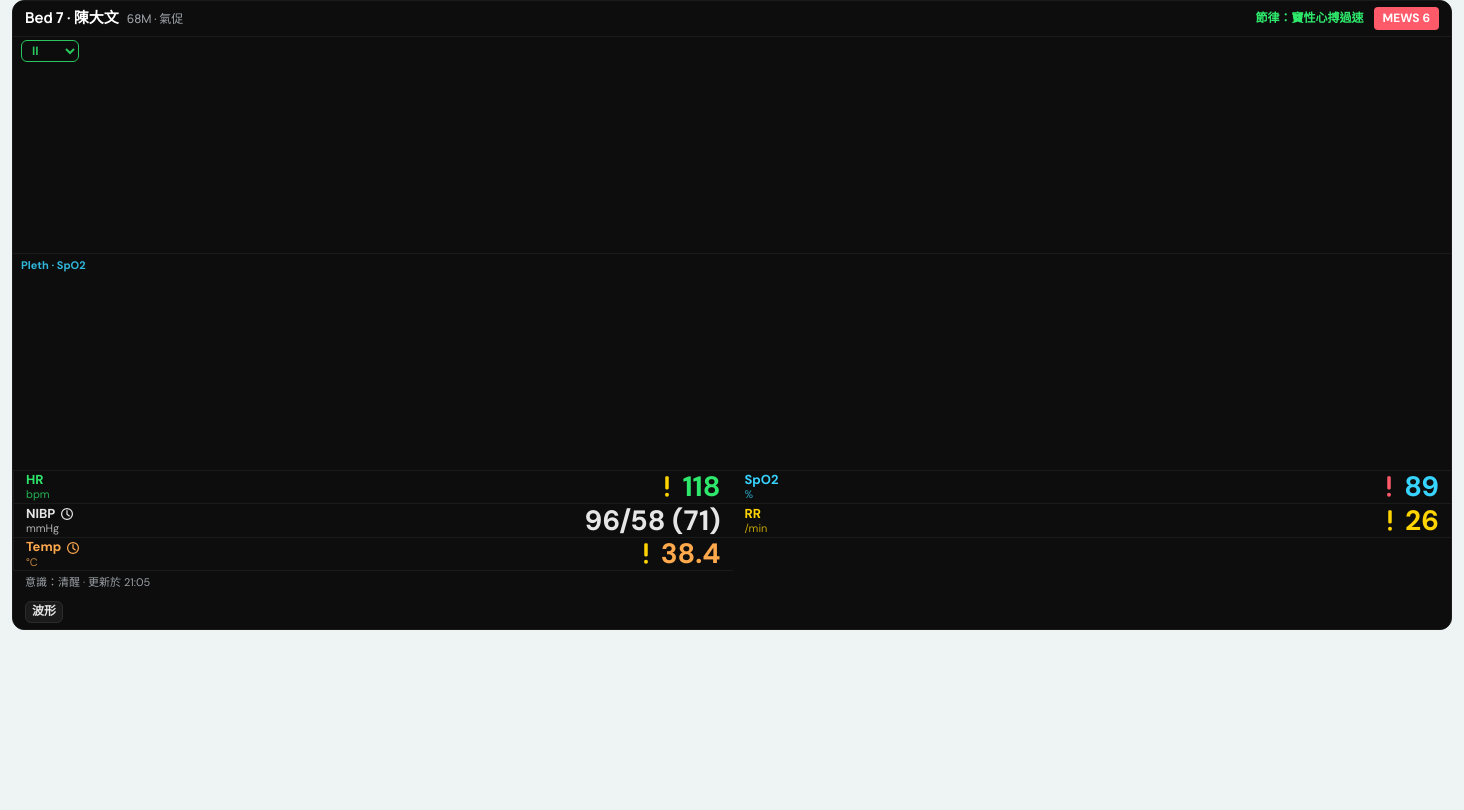
it: MonitorPanel：床邊監護儀風格＋閃爍數值＋驚嘆號 › 體溫保持上次讀數，按量度先更新
Expected: the element with test id "measure-temp" is shown, [26,540,81,556]
Expected: the element with test id "vital-temp" shows "38.4", [661,535,720,572]
Click the button with test id "measure-temp": (73, 548) [65,540,81,556]
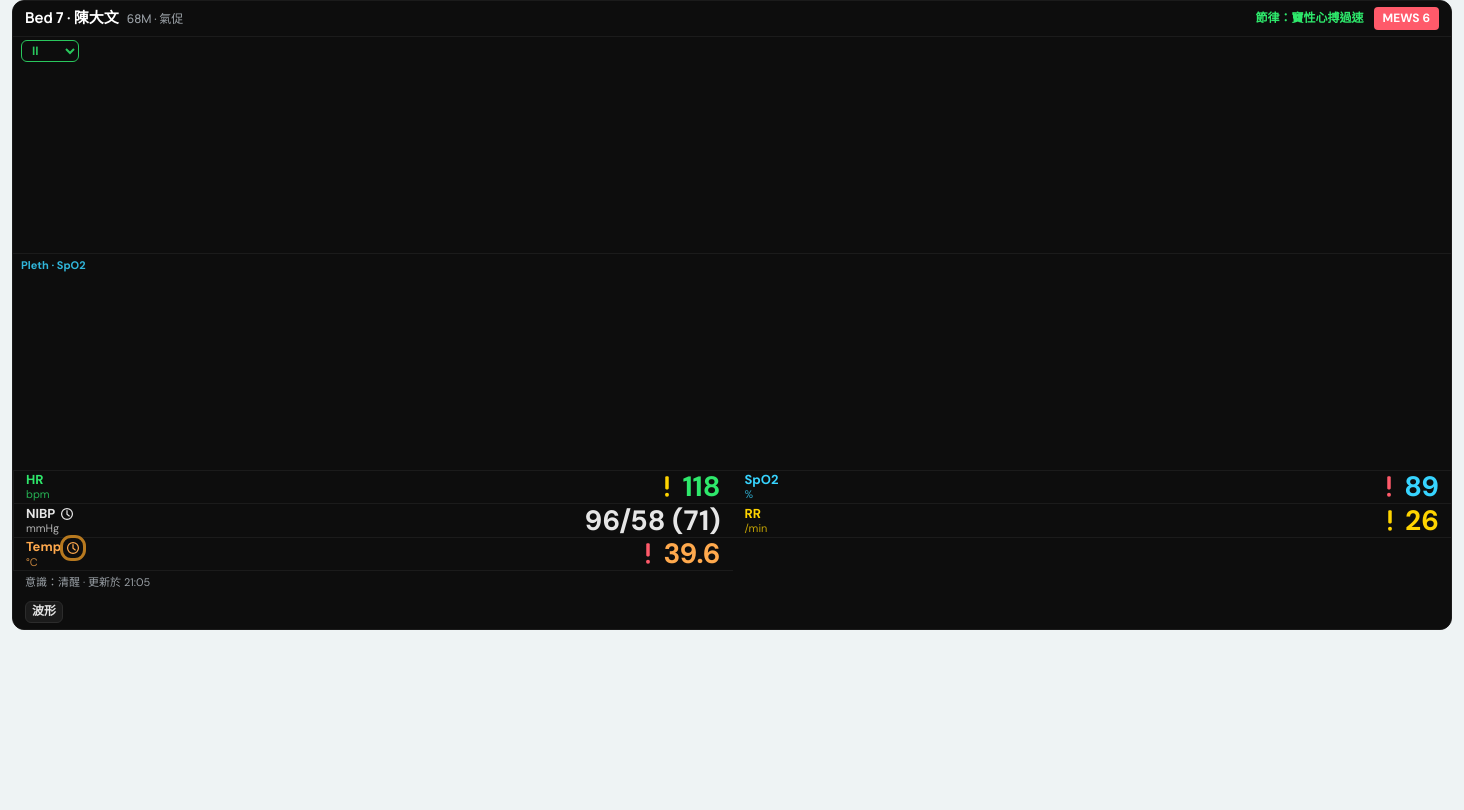
Now the element with test id "vital-temp" shows "39.6", box [663,535,720,572]
